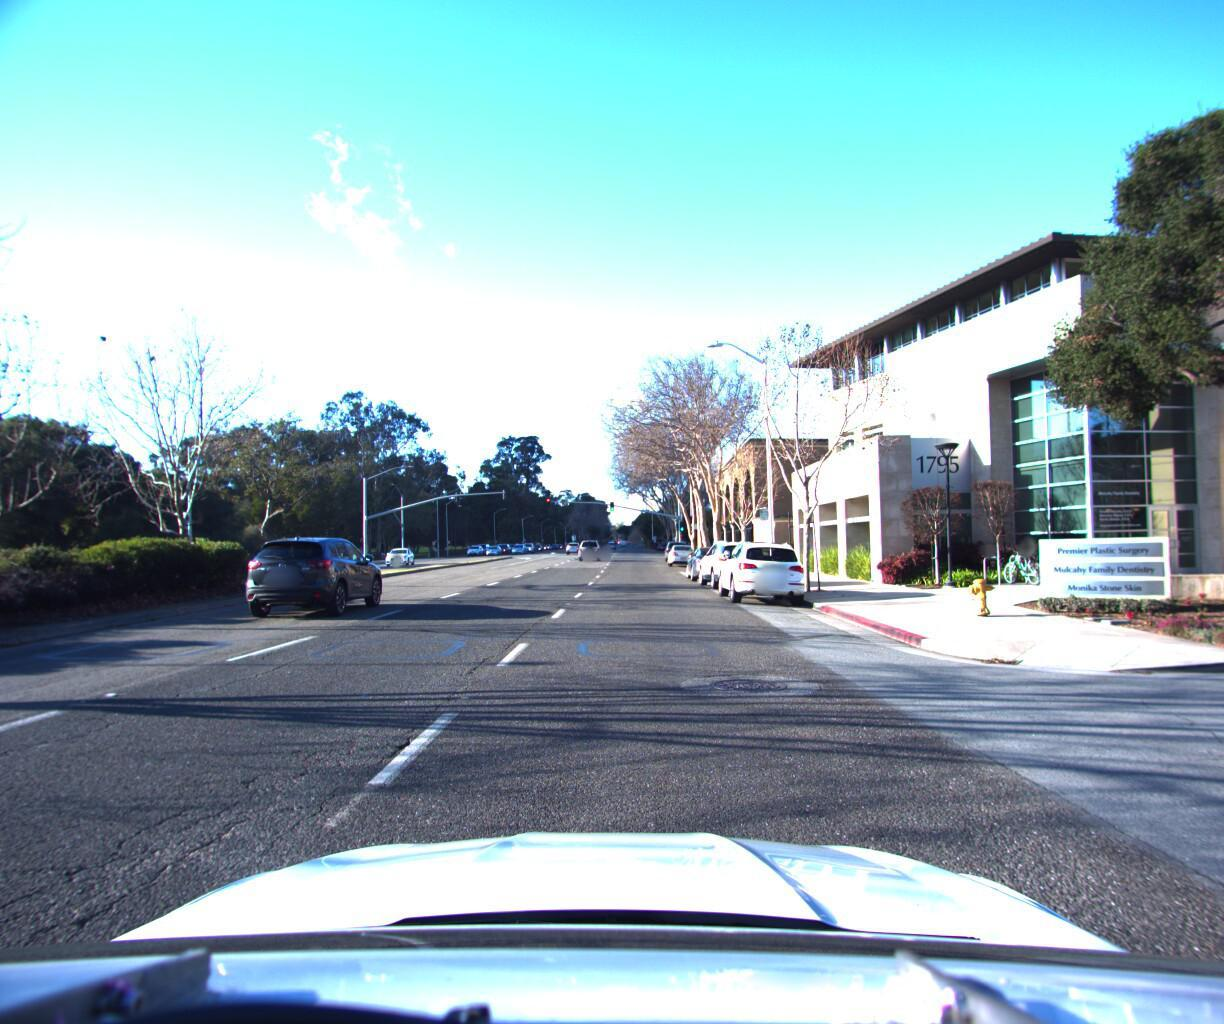bicycle: (991, 540, 1050, 580)
car: (232, 529, 389, 622), (711, 533, 808, 604), (691, 529, 773, 586), (682, 538, 742, 580), (665, 538, 697, 563), (571, 533, 601, 556), (384, 542, 417, 561)
